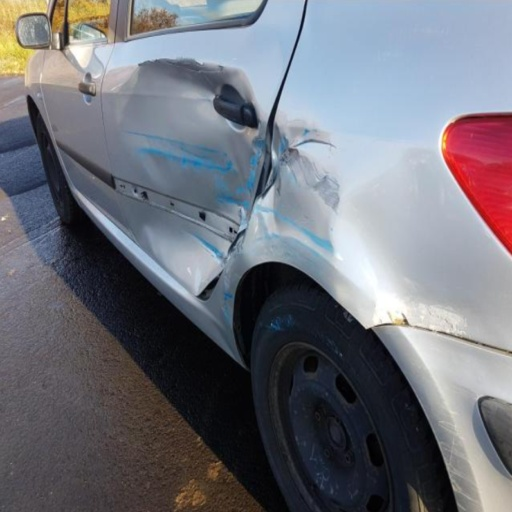dent: (102, 48, 262, 292), (214, 109, 352, 362), (326, 150, 477, 338), (225, 257, 252, 324)
rust: (388, 304, 467, 337)
scratch: (421, 401, 496, 511), (256, 134, 342, 218), (274, 126, 343, 213), (254, 204, 336, 255), (122, 130, 234, 162), (136, 147, 233, 174), (262, 234, 330, 266), (179, 228, 228, 268), (140, 51, 226, 72), (235, 157, 258, 198), (261, 159, 280, 200), (214, 194, 252, 211), (448, 464, 475, 483), (453, 482, 477, 500), (299, 126, 327, 141), (297, 138, 336, 148), (222, 292, 233, 327), (440, 420, 459, 439), (445, 446, 466, 462), (250, 135, 262, 148), (399, 311, 409, 325), (445, 408, 463, 415), (385, 311, 396, 322)
